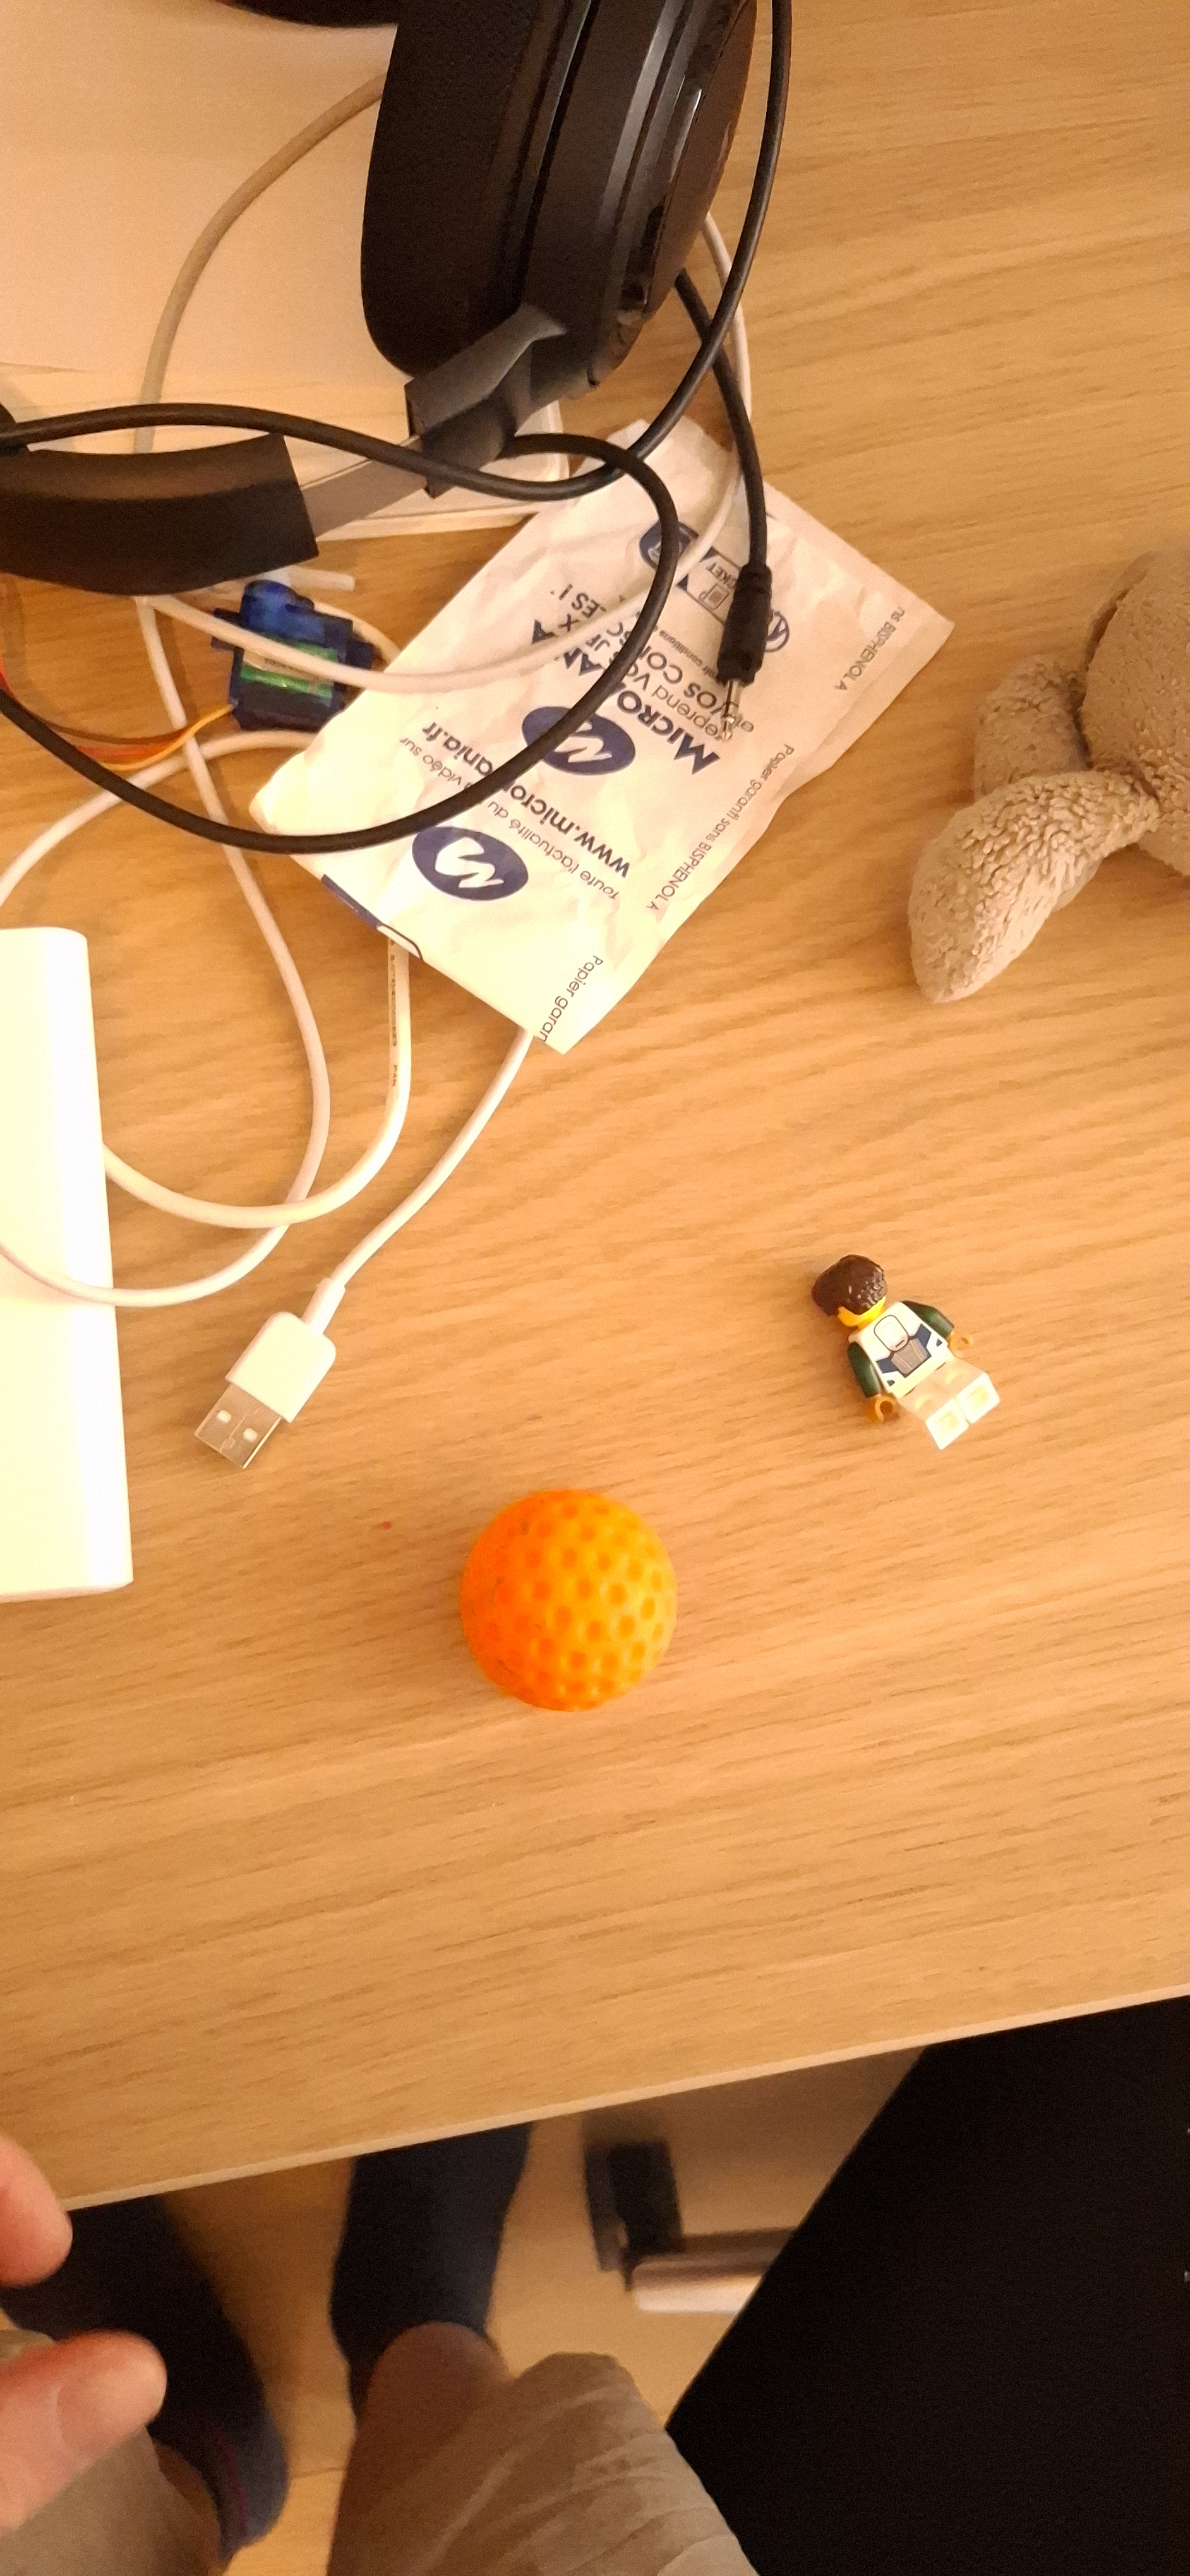ball: (689, 1112, 791, 1579)
